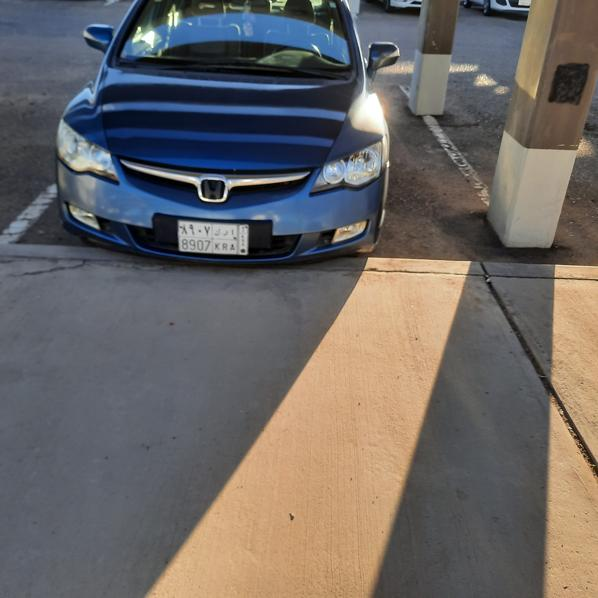numberplate: (178, 220, 249, 255)
